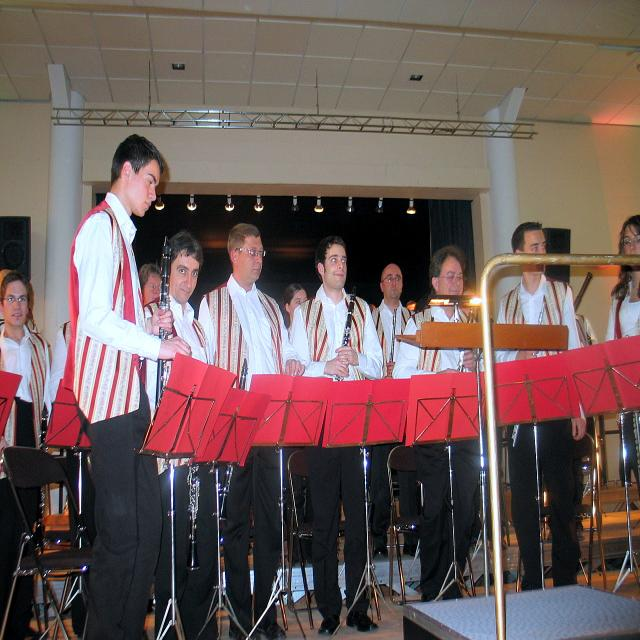clarinet: (212, 353, 250, 530), (182, 452, 207, 578), (156, 231, 172, 427), (335, 292, 357, 383)
